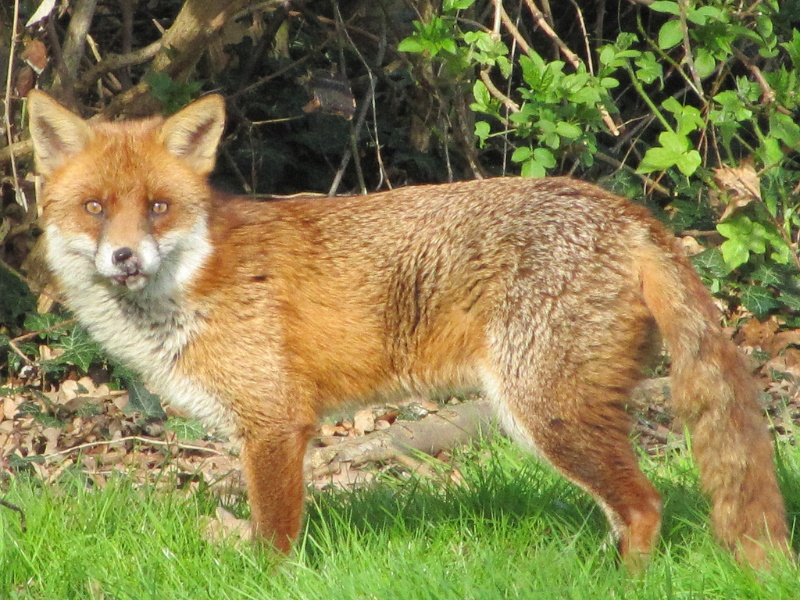fox: (25, 85, 790, 576)
